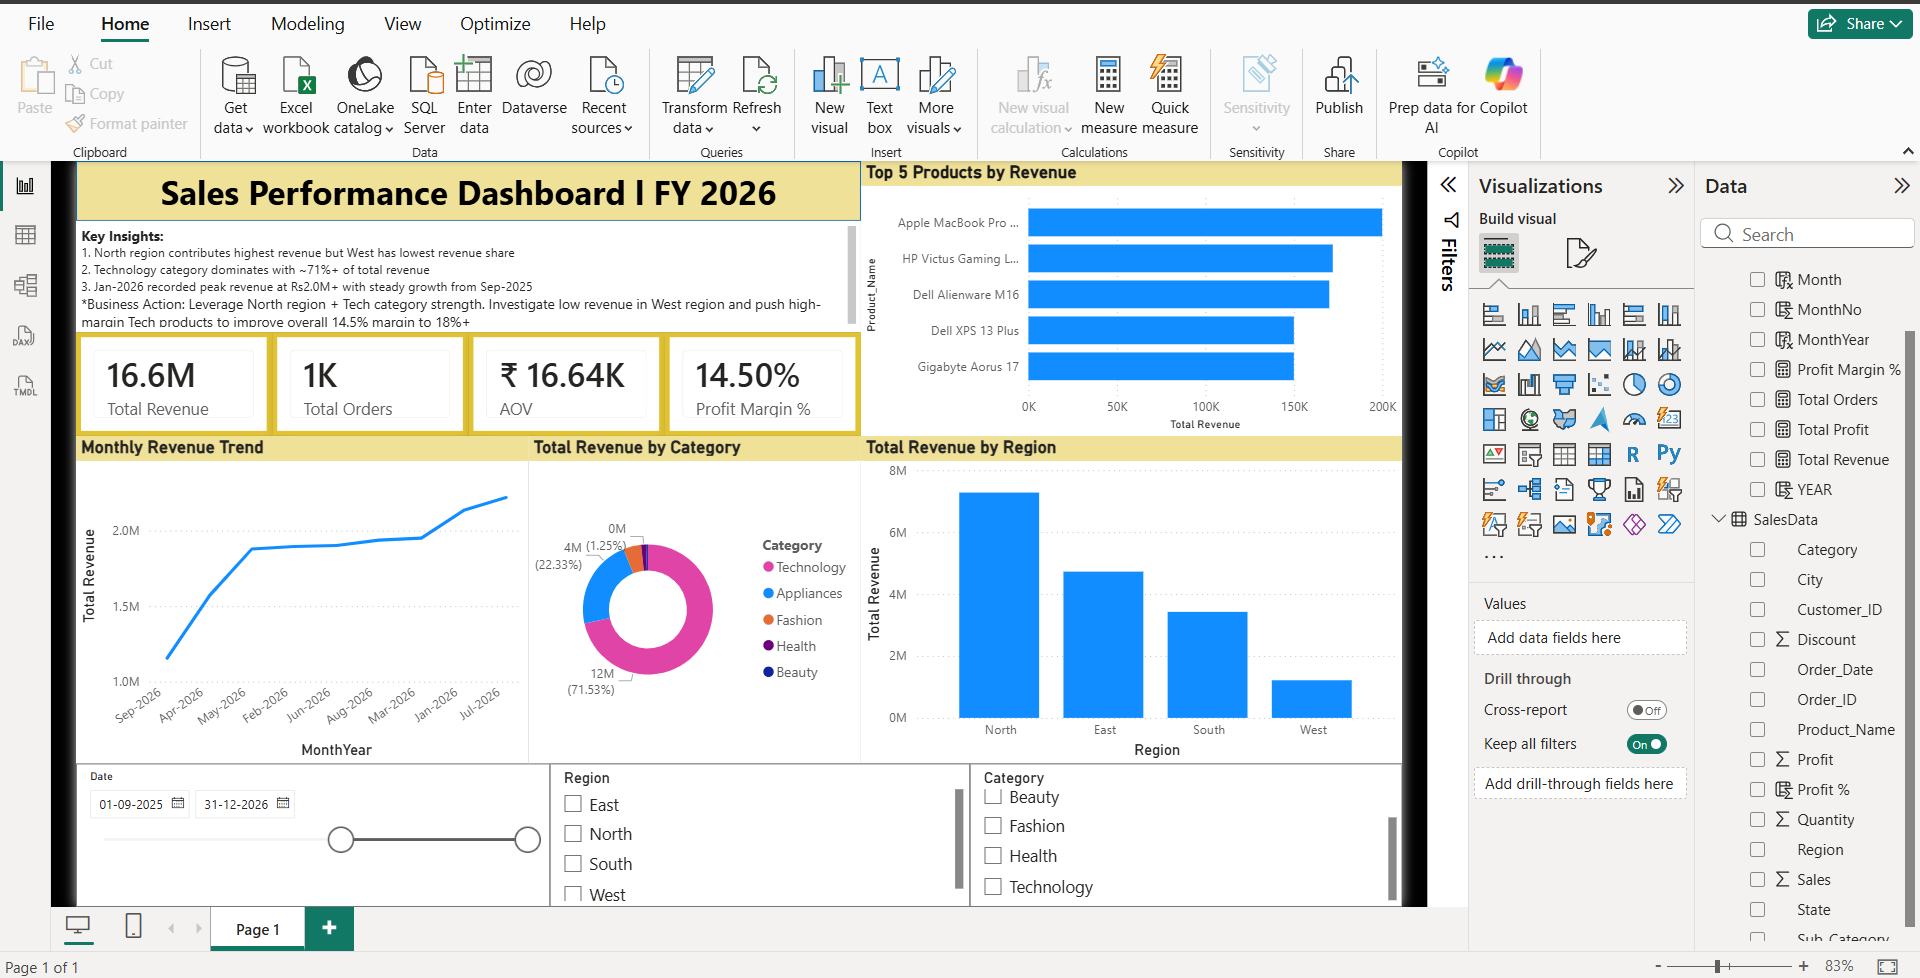

The page's visual inventory and layout, read from the dashboard file:
{"tool":"powerbi","page":{"name":"Page 1","canvas":[1280,720],"ordinal":0},"visuals":[{"type":"cardVisual","fields":{"Data":["DateTable.Total Revenue"]},"box":[0,165.3,189.4,100.1],"z":0},{"type":"cardVisual","fields":{"Data":["DateTable.Total Orders"]},"box":[189.4,165.3,189.4,100.1],"z":1000},{"type":"cardVisual","fields":{"Data":["DateTable.AOV"]},"box":[378.8,165.3,189.4,100.1],"z":2000},{"type":"cardVisual","fields":{"Data":["DateTable.Profit Margin %"]},"box":[568.2,165.3,189.4,100.1],"z":3000},{"type":"lineChart","title":"Monthly Revenue Trend","fields":{"Category":["DateTable.MonthYear"],"Y":["DateTable.Total Revenue"]},"box":[0,265.4,436.7,316.1],"z":4000},{"type":"clusteredBarChart","title":"Top 5 Products by Revenue","fields":{"Category":["SalesData.Product_Name"],"Y":["DateTable.Total Revenue"]},"box":[757.6,0,522.4,265.4],"z":5000},{"type":"clusteredColumnChart","fields":{"Category":["SalesData.Region"],"Y":["DateTable.Total Revenue"]},"box":[757.6,265.4,522.4,316.1],"z":6000},{"type":"donutChart","fields":{"Category":["SalesData.Category"],"Y":["DateTable.Total Revenue"]},"box":[436.7,265.4,320.9,316.1],"z":7000},{"type":"slicer","fields":{"Values":["DateTable.Date"]},"box":[0,581.5,457.2,138.7],"z":8000},{"type":"slicer","fields":{"Values":["SalesData.Region"]},"box":[457.2,581.5,405.4,138.7],"z":9000},{"type":"slicer","fields":{"Values":["SalesData.Category"]},"box":[862.6,581.5,417.4,138.7],"z":10000},{"type":"shape","box":[0,0,757.6,57.9],"z":11000},{"type":"textbox","box":[0,57.9,757.6,107.4],"z":12000}]}

Visuals, with their boxes on the page's 1280x720 design canvas (x1, y1, x2, y2). These are canvas units, not pixel positions in the 1920x978 screenshot, which may show the page scaled, cropped or inside an application window:
cardVisual - DateTable.Total Revenue: 0, 165, 189, 265
cardVisual - DateTable.Total Orders: 189, 165, 379, 265
cardVisual - DateTable.AOV: 379, 165, 568, 265
cardVisual - DateTable.Profit Margin %: 568, 165, 758, 265
"Monthly Revenue Trend" lineChart: 0, 265, 437, 582
"Top 5 Products by Revenue" clusteredBarChart: 758, 0, 1280, 265
clusteredColumnChart - SalesData.Region x DateTable.Total Revenue: 758, 265, 1280, 582
donutChart - SalesData.Category x DateTable.Total Revenue: 437, 265, 758, 582
slicer - DateTable.Date: 0, 582, 457, 720
slicer - SalesData.Region: 457, 582, 863, 720
slicer - SalesData.Category: 863, 582, 1280, 720
shape: 0, 0, 758, 58
textbox: 0, 58, 758, 165
